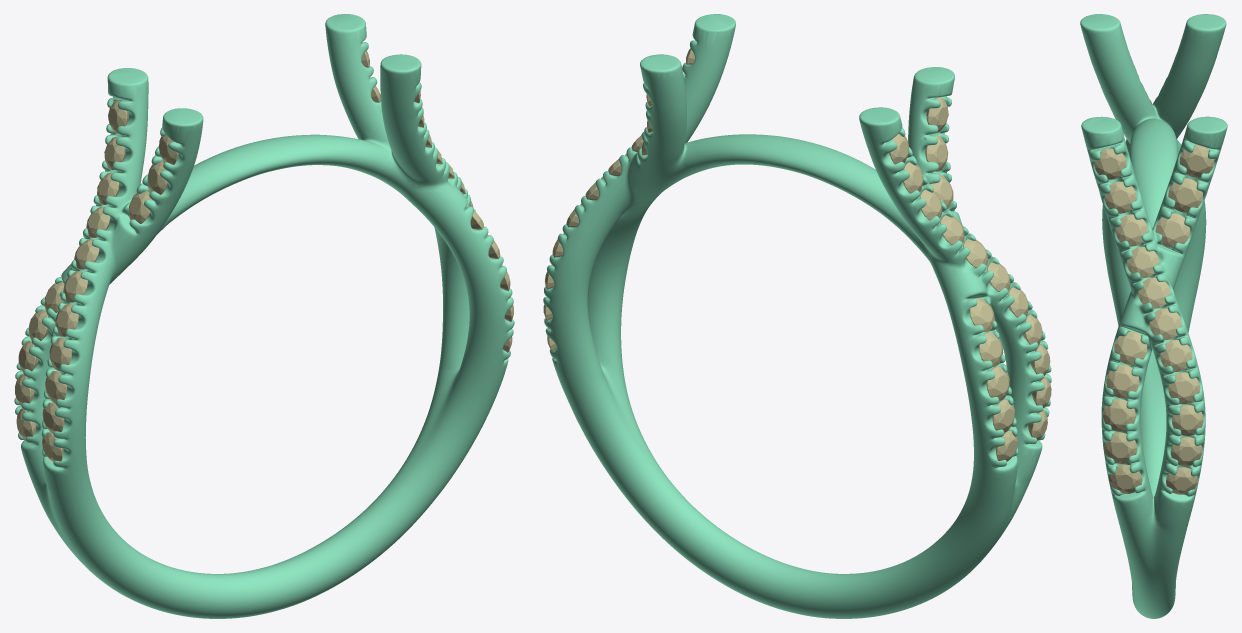
3 views of the same model, side by side, from view 1: azimuth 30°, elevation 25°; view 2: azimuth 150°, elevation 25°; view 3: azimuth 270°, elevation 25° (orthographic). The views are drawn at different scales.
Parts seen in each view (by area): view 1: Metal02; view 2: Metal02; view 3: Metal02, Diamond_Gem.013, Diamond_Gem.012, Diamond_Gem.018, Diamond_Gem.017, Diamond_Gem.011, Diamond_Gem.016, Diamond_Gem.015, Diamond_Gem.009, Diamond_Gem.004, Diamond_Gem.008, Diamond_Gem.005 (+8 smaller).
Boxes of the visible parts, x1,y1,x2,y2 form: Metal02: (14,14,514,618); Metal02: (543,14,1051,618); Metal02: (1080,14,1227,618); Diamond_Gem.013: (1155,213,1190,247); Diamond_Gem.012: (1168,178,1202,212); Diamond_Gem.018: (1114,331,1147,364); Diamond_Gem.017: (1106,365,1139,398); Diamond_Gem.011: (1179,145,1214,177); Diamond_Gem.016: (1102,399,1135,431); Diamond_Gem.015: (1104,432,1137,463); Diamond_Gem.009: (1104,181,1136,213); Diamond_Gem.004: (1160,340,1192,371); Diamond_Gem.008: (1115,214,1147,246); Diamond_Gem.005: (1149,308,1181,339).
Bounding box in the file's own units: 21.08 × 23.33 × 5.96.
